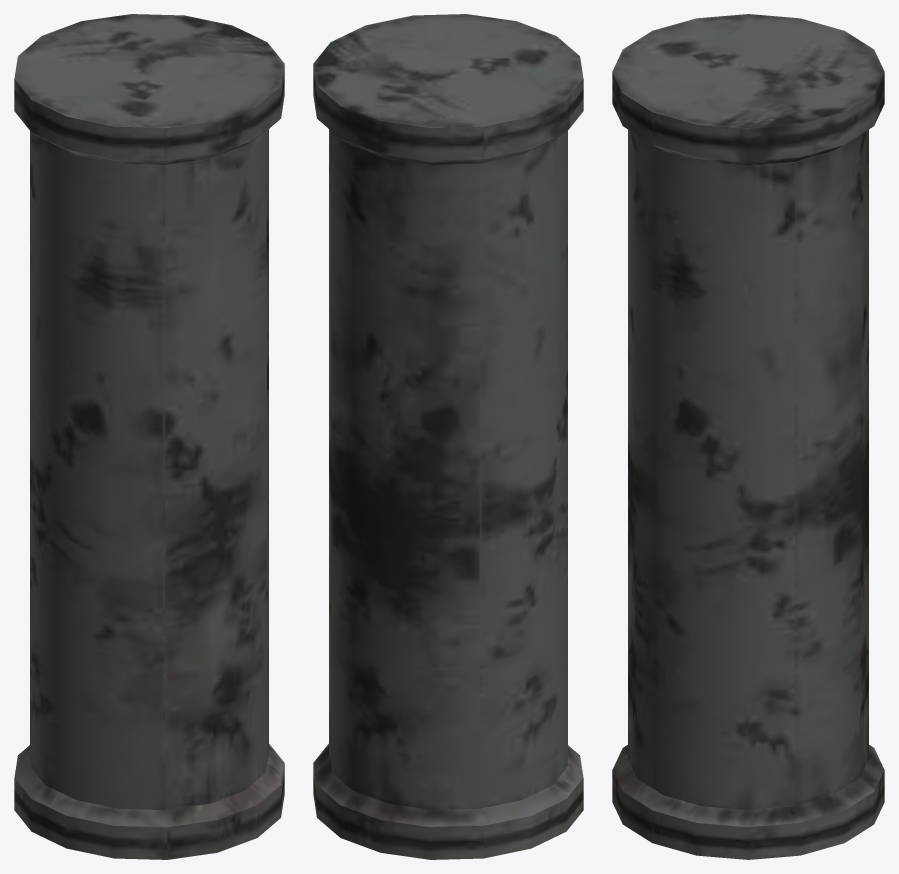
File: duct-pipe-riser--2.gltf
3 views of the same model, side by side, from view 1: azimuth 30°, elevation 25°; view 2: azimuth 150°, elevation 25°; view 3: azimuth 270°, elevation 25° (orthographic).
Parts seen in each view (by area): view 1: Cylinder.114; view 2: Cylinder.114; view 3: Cylinder.114.
Boxes of the visible parts, x1=… form: Cylinder.114: x1=14, y1=14, x2=284, y2=859; Cylinder.114: x1=313, y1=14, x2=583, y2=859; Cylinder.114: x1=612, y1=14, x2=884, y2=859.
Size of the model in its own units: 1.25 by 3.7 by 1.25.
1 material, 1 textured.
